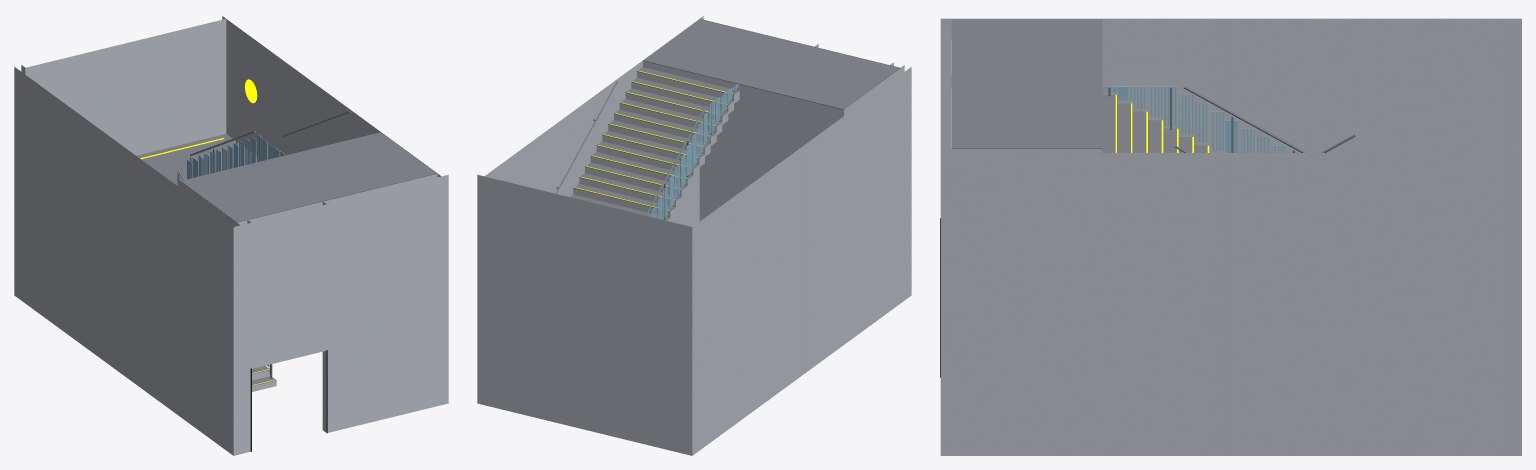
File: tt_stair_core_b_cap.glb
3 renders of one model, left to right at view 1: azimuth 30°, elevation 25°; view 2: azimuth 150°, elevation 25°; view 3: azimuth 270°, elevation 25°, orthographic. The views are drawn at different scales.
Parts seen in each view (by area): view 1: Core_Walls, Front_Wall, Top_Landing_Slate, Mid_Landing_Slate, Guard_Scissor, Top_Landing; view 2: Core_Walls, Top_Landing_Slate, Front_Wall, Flight2_Modules, Treads_Slate, Top_Landing, Guard_Scissor, Nosing_Emergency; view 3: Core_Walls, Top_Landing_Slate, Treads_Slate, Guard_Scissor, Front_Wall, Top_Landing.
Boxes of the visible parts, x1,y1,x2,y2 form: Core_Walls: (14,16,448,455); Front_Wall: (236,176,441,453); Top_Landing_Slate: (180,132,437,222); Mid_Landing_Slate: (136,134,262,185); Guard_Scissor: (187,134,285,373); Top_Landing: (179,174,437,226); Core_Walls: (477,16,911,455); Top_Landing_Slate: (643,19,899,109); Front_Wall: (699,19,904,221); Flight2_Modules: (573,71,739,221); Treads_Slate: (570,67,739,220); Top_Landing: (643,61,900,119); Guard_Scissor: (651,84,738,219); Nosing_Emergency: (575,71,733,210); Core_Walls: (940,18,1521,455); Top_Landing_Slate: (951,19,1102,148); Treads_Slate: (1102,95,1209,152); Guard_Scissor: (1102,86,1285,152); Front_Wall: (940,25,951,152); Top_Landing: (951,40,1101,152).
Size of what is drawn, in the model's own units: 6 by 6.1 by 10.61.
Materials: 6 (4 with a texture image).
